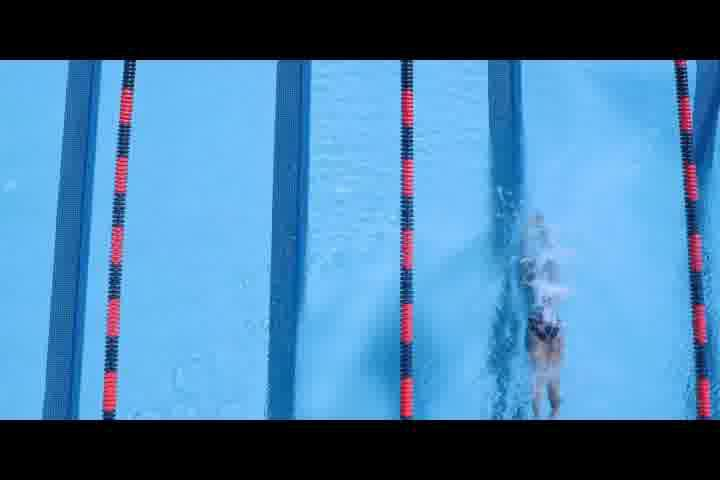swimmer: (502, 241, 580, 418)
